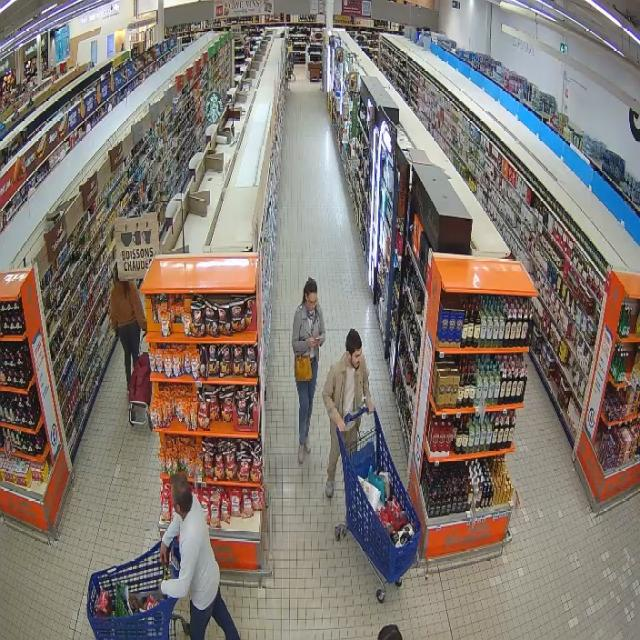bags: (295, 357, 310, 379)
hands: (160, 542, 168, 564), (366, 398, 375, 413), (338, 418, 345, 430)
person: (160, 473, 239, 639), (323, 330, 374, 498), (291, 279, 325, 462), (110, 272, 146, 389)
